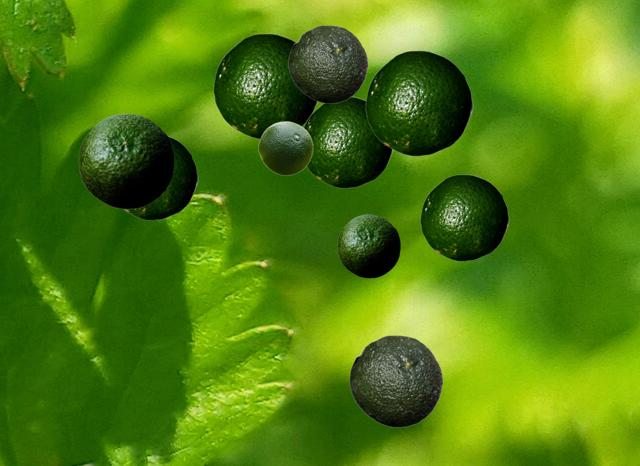calamansi: (365, 50, 472, 155), (213, 33, 317, 138), (78, 113, 173, 208), (349, 335, 442, 426), (303, 96, 393, 187), (420, 174, 508, 260), (122, 136, 197, 219), (288, 25, 367, 102), (337, 214, 399, 277), (258, 121, 312, 174)
